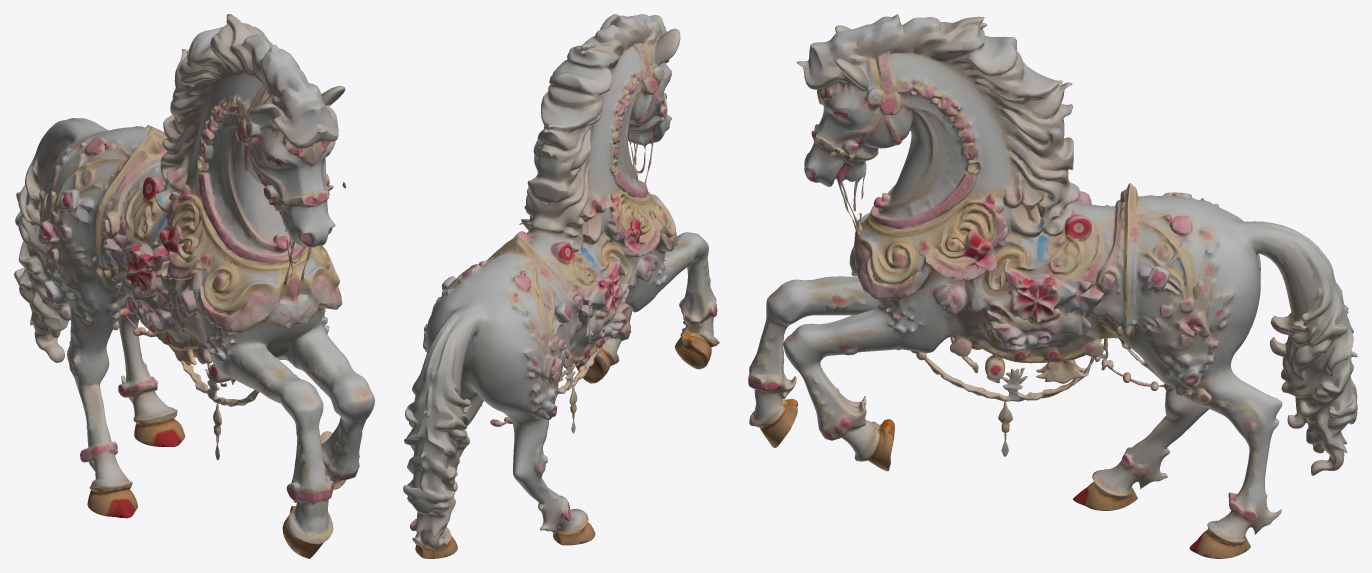
File: caballo.fbx
3 views of the same model, side by side, from view 1: azimuth 30°, elevation 25°; view 2: azimuth 150°, elevation 25°; view 3: azimuth 270°, elevation 25° (orthographic). The views are drawn at different scales.
Parts seen in each view (by area): view 1: tripo_node_191742e2; view 2: tripo_node_191742e2; view 3: tripo_node_191742e2.
Boxes of the visible parts, <box> form: tripo_node_191742e2: <box>14,14,374,558</box>; tripo_node_191742e2: <box>403,14,719,558</box>; tripo_node_191742e2: <box>748,14,1357,558</box>.
Size of the model in its own units: 0.2836 by 0.9299 by 0.9999.
Materials: 1 (1 with a texture image).
